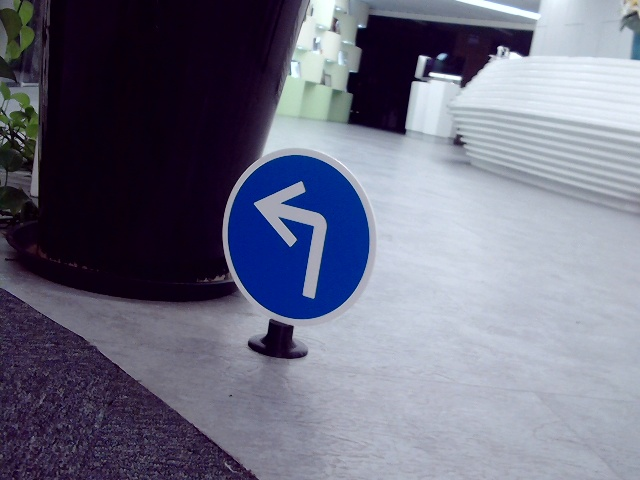turn_left: (252, 173, 334, 300)
